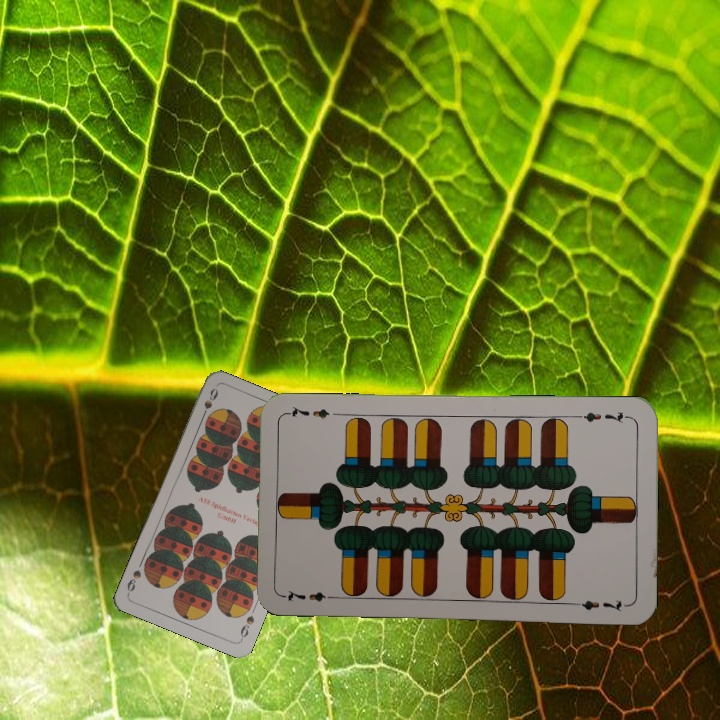E7: (573, 407, 632, 426), (282, 586, 341, 605)
S9: (197, 384, 221, 423), (236, 611, 257, 643)
